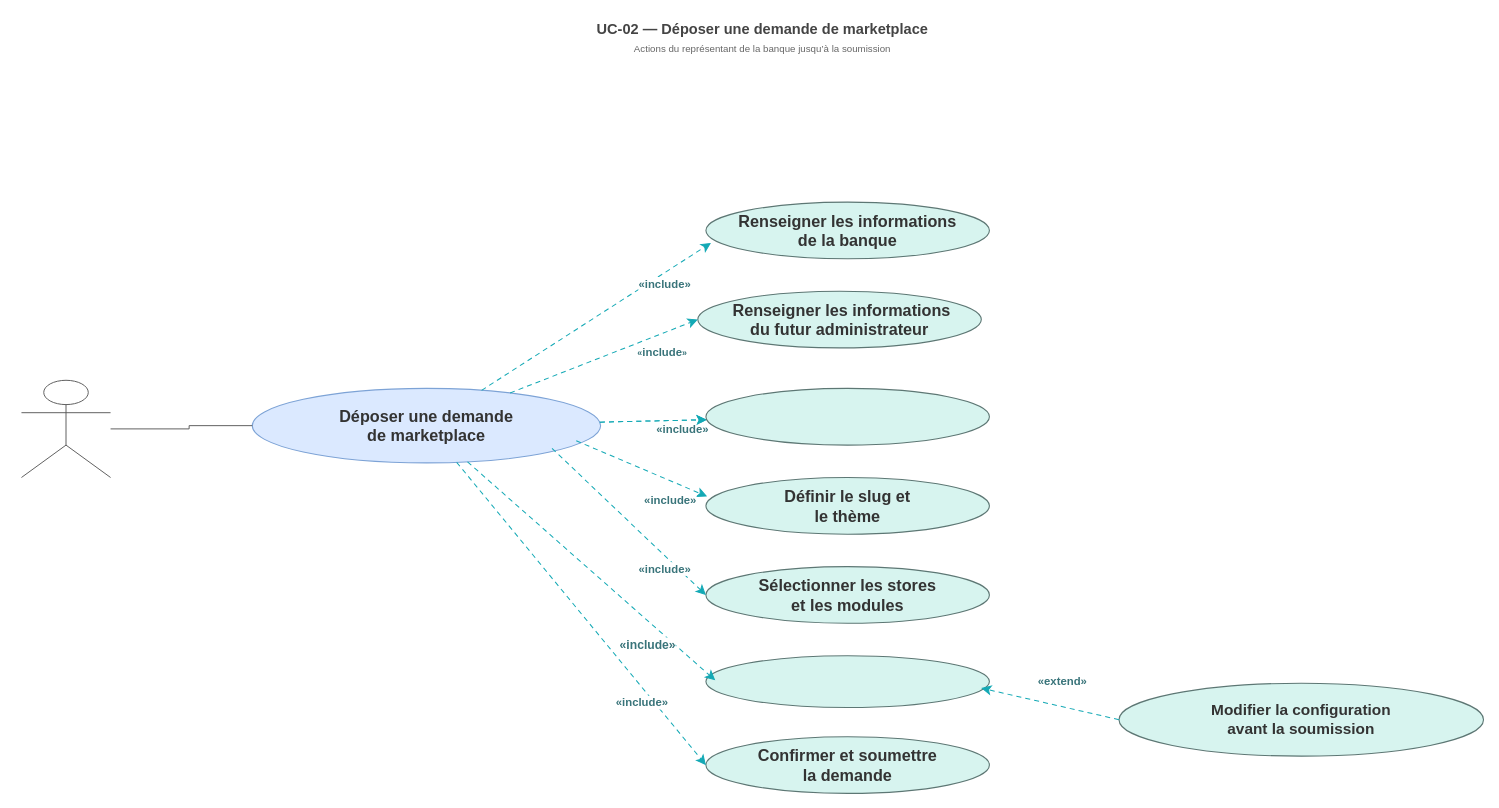
This 1499x808 diagram has some shape labels left out. The shapes that lost their labels are listed below. From the top down, each one's box as (x1, y1, x2, y2) in pixels, then its label:
(21, 379, 111, 478): Représentant de la banque
(705, 387, 990, 445): Saisir le code de vérification reçu
(705, 655, 990, 708): Consulter le récapitulatif
